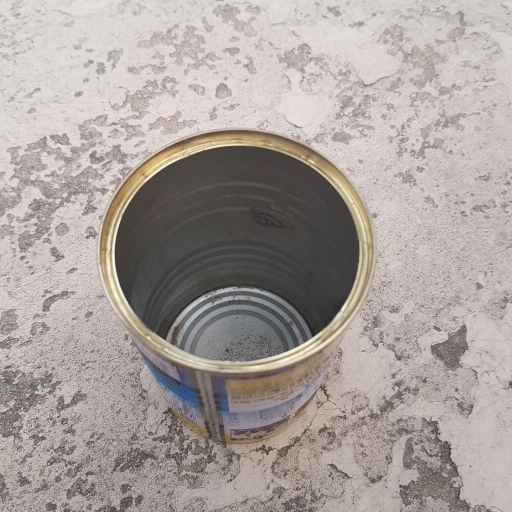Metal_1: (95, 129, 378, 447)
